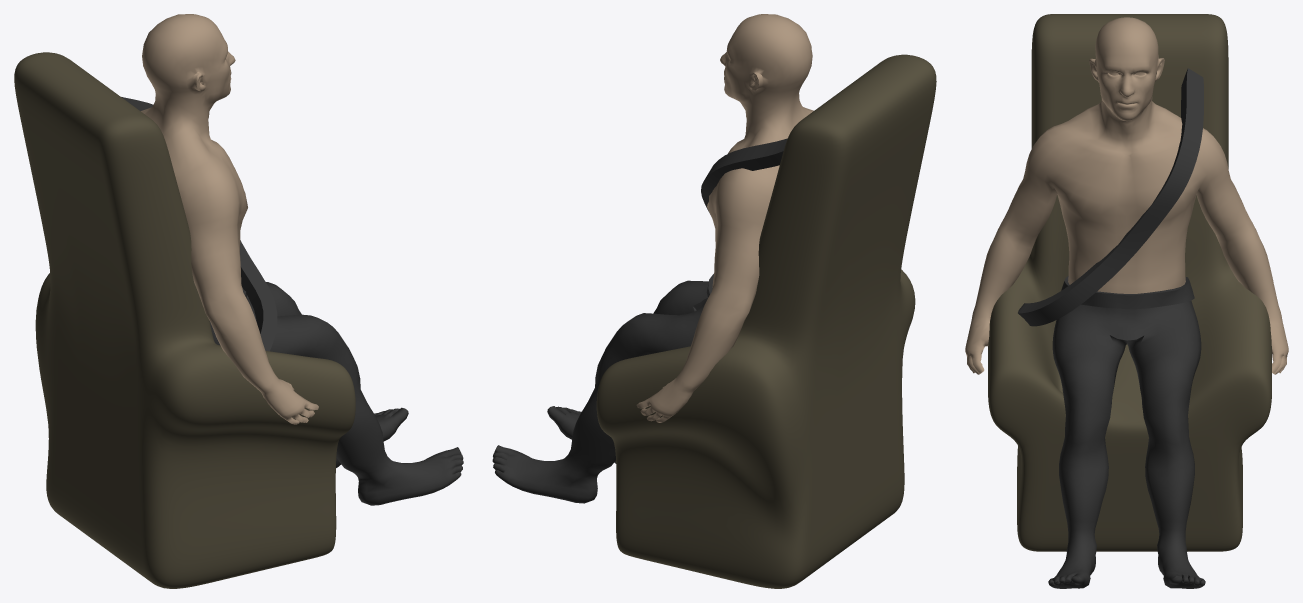
File: Seat_reference_placeholder.fbx
3 views of the same model, side by side, from view 1: azimuth 30°, elevation 25°; view 2: azimuth 150°, elevation 25°; view 3: azimuth 270°, elevation 25° (orthographic). The views are drawn at different scales.
Parts seen in each view (by area): view 1: chair, Realistic_White_Male_Low_Poly, Plane; view 2: chair, Realistic_White_Male_Low_Poly, Plane; view 3: Realistic_White_Male_Low_Poly, chair, Plane.
Part boxes in pixels (x1,y1,x2,y2): chair: [14, 52, 355, 588]; Realistic_White_Male_Low_Poly: [141, 14, 463, 505]; Plane: [121, 97, 277, 351]; chair: [596, 54, 936, 588]; Realistic_White_Male_Low_Poly: [492, 14, 813, 503]; Plane: [701, 138, 787, 214]; Realistic_White_Male_Low_Poly: [965, 17, 1288, 588]; chair: [988, 14, 1271, 551]; Plane: [1018, 68, 1203, 326].
Size of the model in its own units: 3.25 by 4.06 by 5.43.
